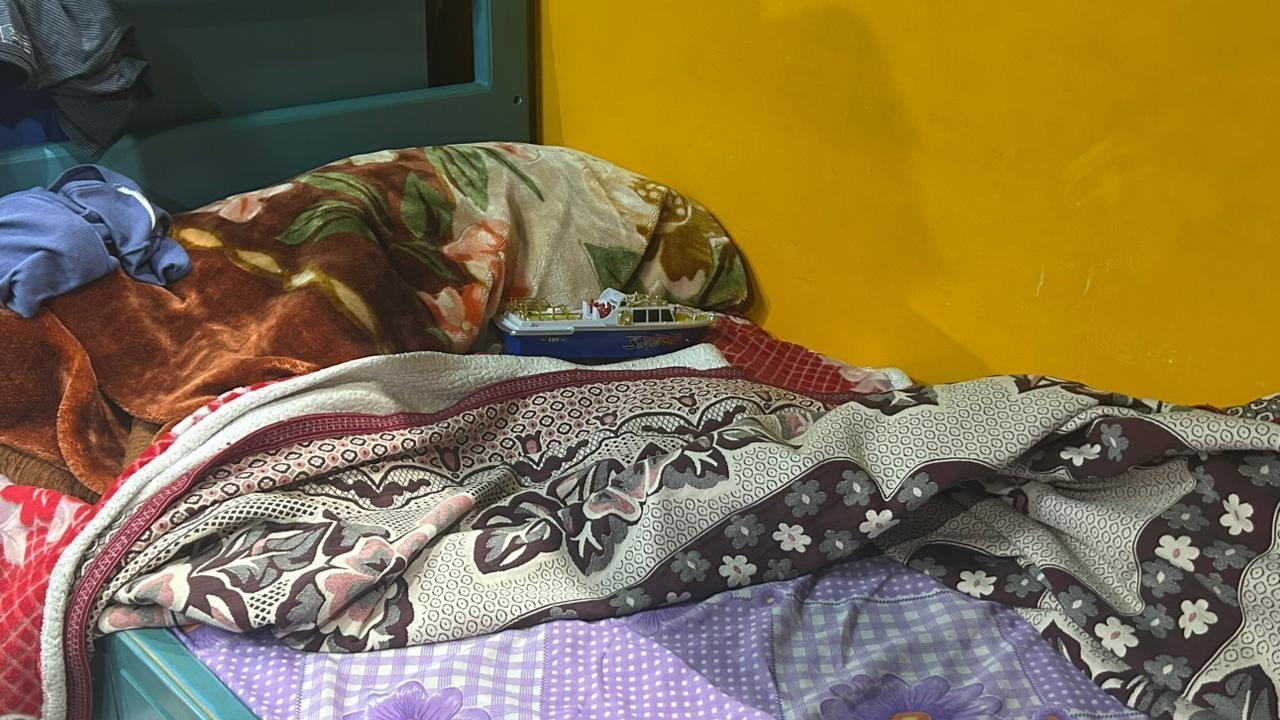Boat: (490, 278, 726, 366)
